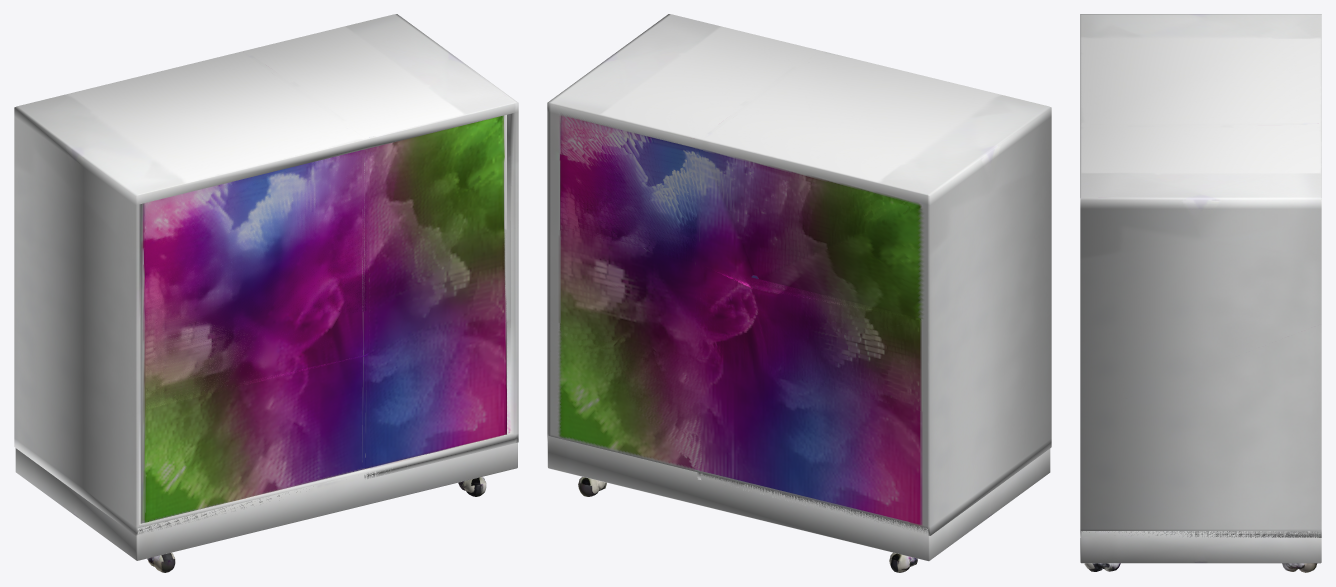
Rendered from Prismatic_Burst_led_display_bar0607153612_texture.glb.
3 views of the same model, side by side, from view 1: azimuth 30°, elevation 25°; view 2: azimuth 150°, elevation 25°; view 3: azimuth 270°, elevation 25° (orthographic).
Parts seen in each view (by area): view 1: Mesh_0; view 2: Mesh_0; view 3: Mesh_0.
Part boxes in pixels (x1=…): Mesh_0: x1=14, y1=14, x2=518, y2=572; Mesh_0: x1=547, y1=14, x2=1051, y2=572; Mesh_0: x1=1080, y1=14, x2=1321, y2=572.
Size of the model in its own units: 1.04 by 1.02 by 0.572.
Materials: 1 (1 with a texture image).
